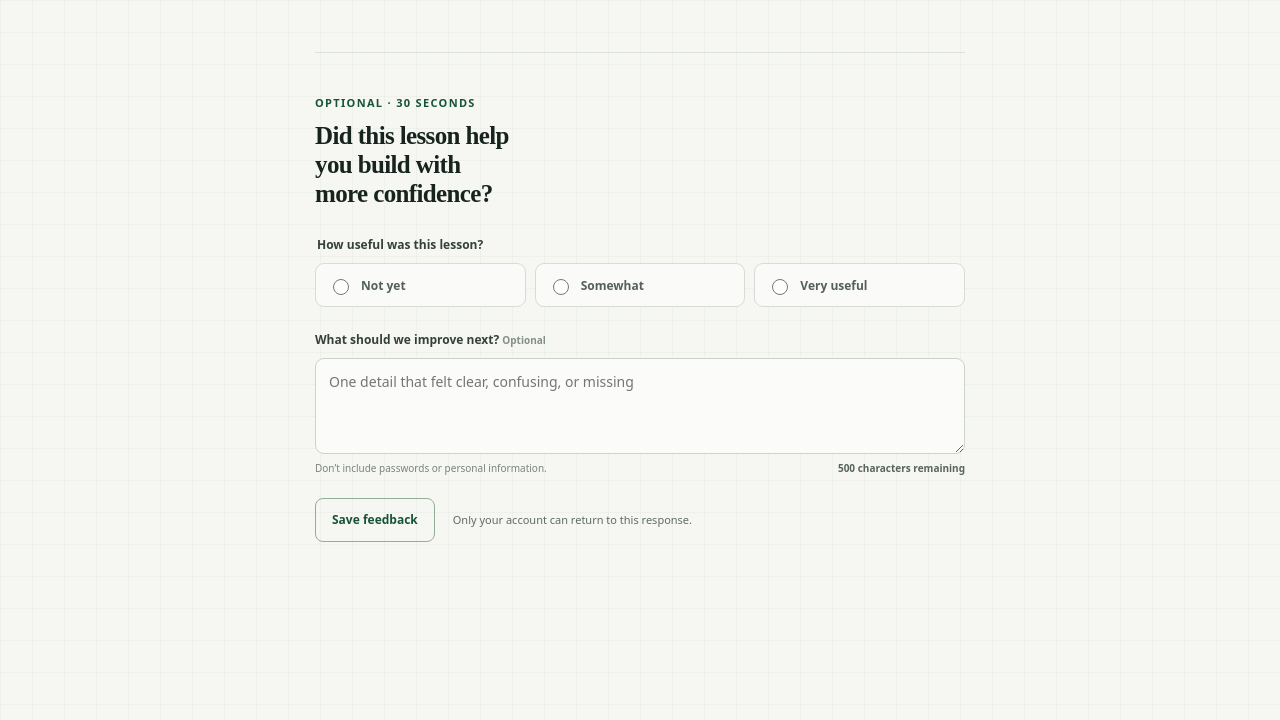
Test: CourseFeedback › focuses and describes the usefulness choices when a response is missing
The image size is (1280, 720).
Click the button "Save feedback".
click(375, 520)  # box x1=315 y1=498 x2=435 y2=542
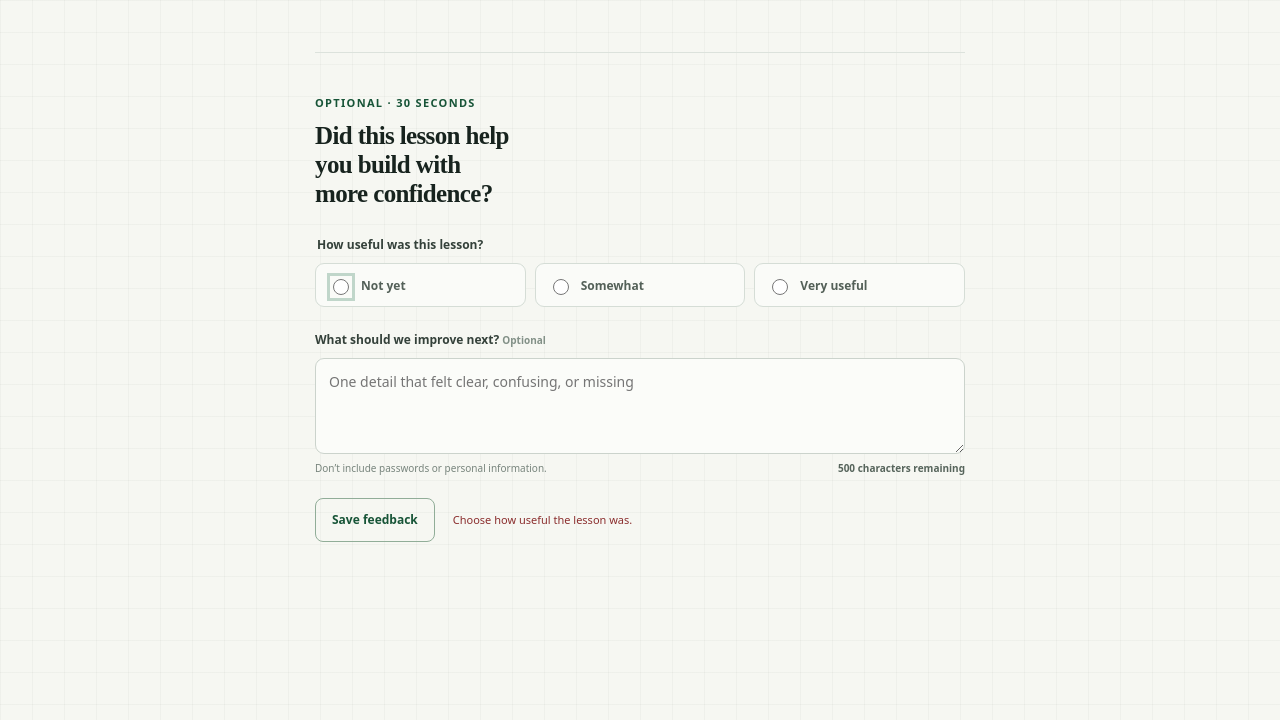
Check: the message reads "Choose how useful the lesson was.", box x1=453 y1=512 x2=632 y2=527
